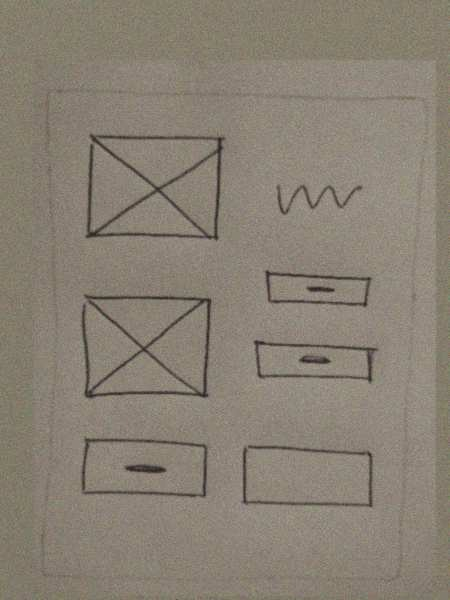button: (71, 433, 219, 508), (251, 335, 387, 392), (259, 262, 376, 317)
image: (76, 127, 230, 253), (71, 288, 215, 406)
text: (267, 173, 370, 232)
text_input: (237, 435, 380, 518)
